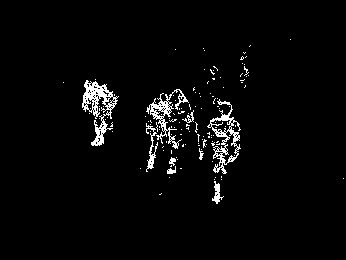person: (199, 101, 241, 204), (166, 87, 198, 175), (80, 79, 117, 147), (146, 97, 166, 172)
